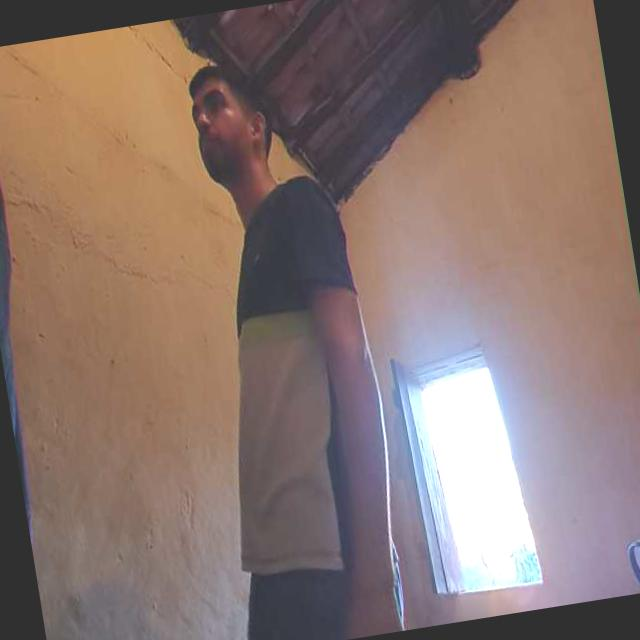capacete: (621, 522, 640, 595)
pessoa: (164, 38, 417, 640)
